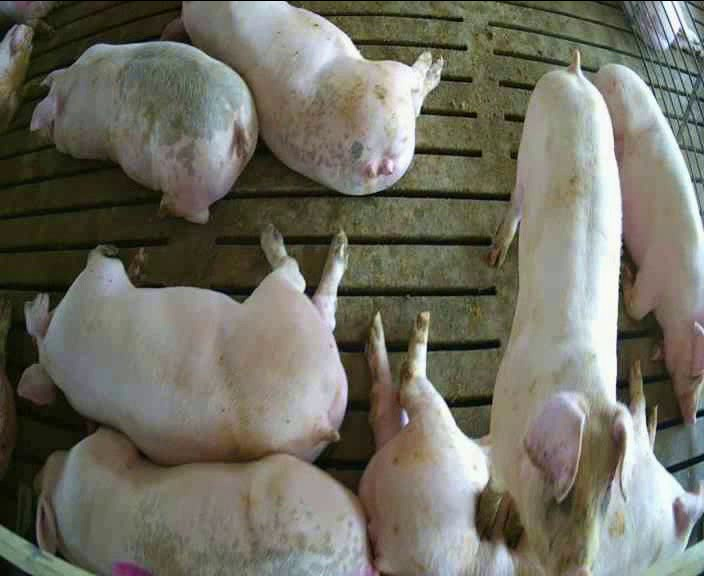pig: (18, 225, 346, 462), (160, 2, 443, 194), (34, 428, 371, 573), (32, 41, 256, 222), (594, 64, 703, 422)
